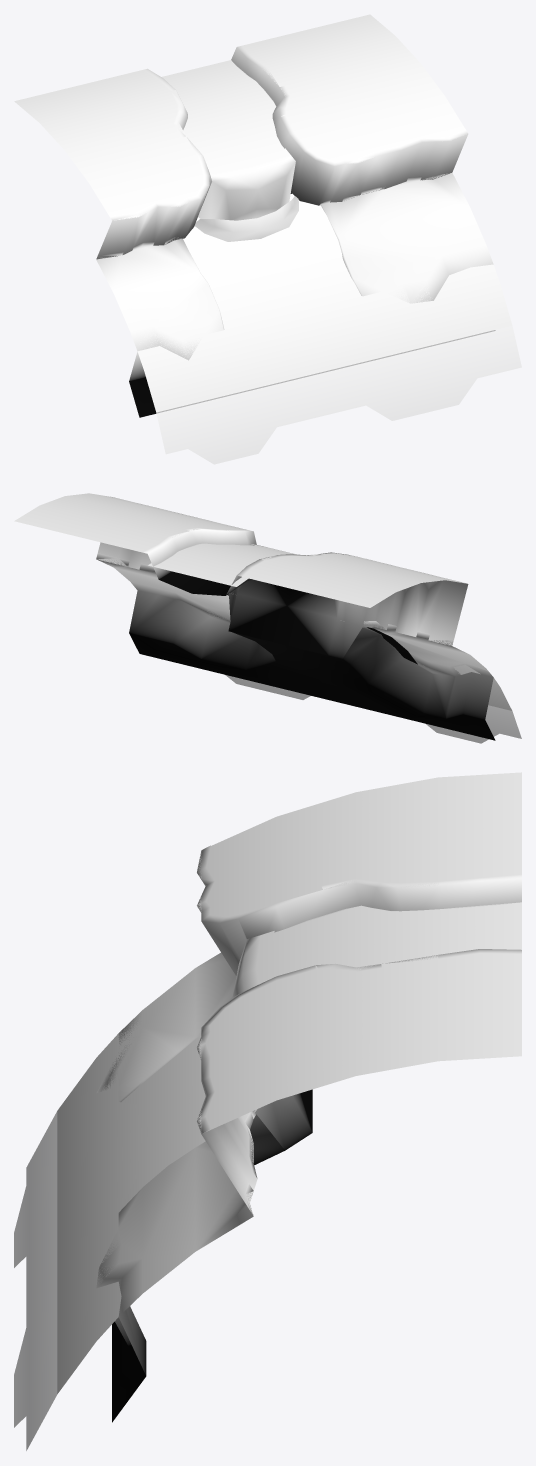
The model's file is grd_Ms_R_0.dae.
3 views of the same model, one above another, from view 1: azimuth 30°, elevation 25°; view 2: azimuth 150°, elevation 25°; view 3: azimuth 270°, elevation 25° (orthographic). The views are drawn at different scales.
Visible parts, largest first — view 1: grass_5_0, wave_9_0, ocean_6_0, beach_3_0, fall_ura_1_0, river1_7_0, fall_0_0, beach_4_0, kemuri_mae_2_0, river_edge_8_0; view 2: beach_4_0, fall_ura_1_0, grass_5_0, beach_3_0, river1_7_0, wave_9_0, ocean_6_0, river_edge_8_0; view 3: grass_5_0, ocean_6_0, wave_9_0, beach_3_0, fall_ura_1_0, river1_7_0, beach_4_0, fall_0_0, river_edge_8_0.
Boxes of the visible parts, bbox=[...] form: grass_5_0: bbox=[14, 14, 464, 220]; wave_9_0: bbox=[138, 276, 521, 464]; ocean_6_0: bbox=[136, 194, 511, 412]; beach_3_0: bbox=[96, 173, 486, 340]; fall_ura_1_0: bbox=[96, 45, 468, 259]; river1_7_0: bbox=[162, 60, 283, 175]; fall_0_0: bbox=[198, 148, 295, 220]; beach_4_0: bbox=[129, 245, 495, 417]; kemuri_mae_2_0: bbox=[194, 196, 298, 241]; river_edge_8_0: bbox=[177, 60, 359, 308]; beach_4_0: bbox=[129, 581, 495, 740]; fall_ura_1_0: bbox=[97, 497, 468, 658]; grass_5_0: bbox=[14, 493, 466, 607]; beach_3_0: bbox=[96, 553, 485, 668]; river1_7_0: bbox=[148, 544, 291, 586]; wave_9_0: bbox=[207, 608, 521, 743]; ocean_6_0: bbox=[453, 664, 511, 710]; river_edge_8_0: bbox=[148, 543, 423, 665]; grass_5_0: bbox=[197, 772, 521, 1132]; ocean_6_0: bbox=[57, 1012, 256, 1393]; wave_9_0: bbox=[14, 1029, 142, 1450]; beach_3_0: bbox=[118, 952, 257, 1293]; fall_ura_1_0: bbox=[197, 845, 521, 1213]; river1_7_0: bbox=[270, 902, 521, 977]; beach_4_0: bbox=[96, 1010, 284, 1422]; fall_0_0: bbox=[232, 931, 274, 997]; river_edge_8_0: bbox=[119, 902, 521, 1211].
Bounding box in the file's own units: 512 × 357 × 387.
Materials: 10 (1 with a texture image).
